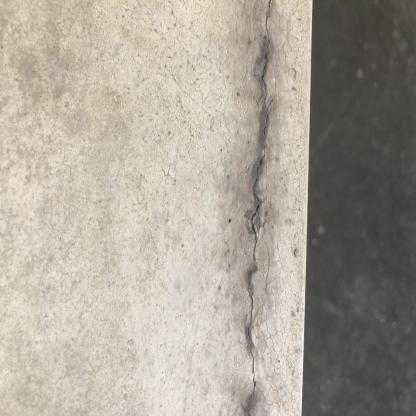crack: (246, 0, 272, 389)
